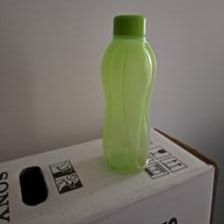bottle: (99, 11, 158, 175)
